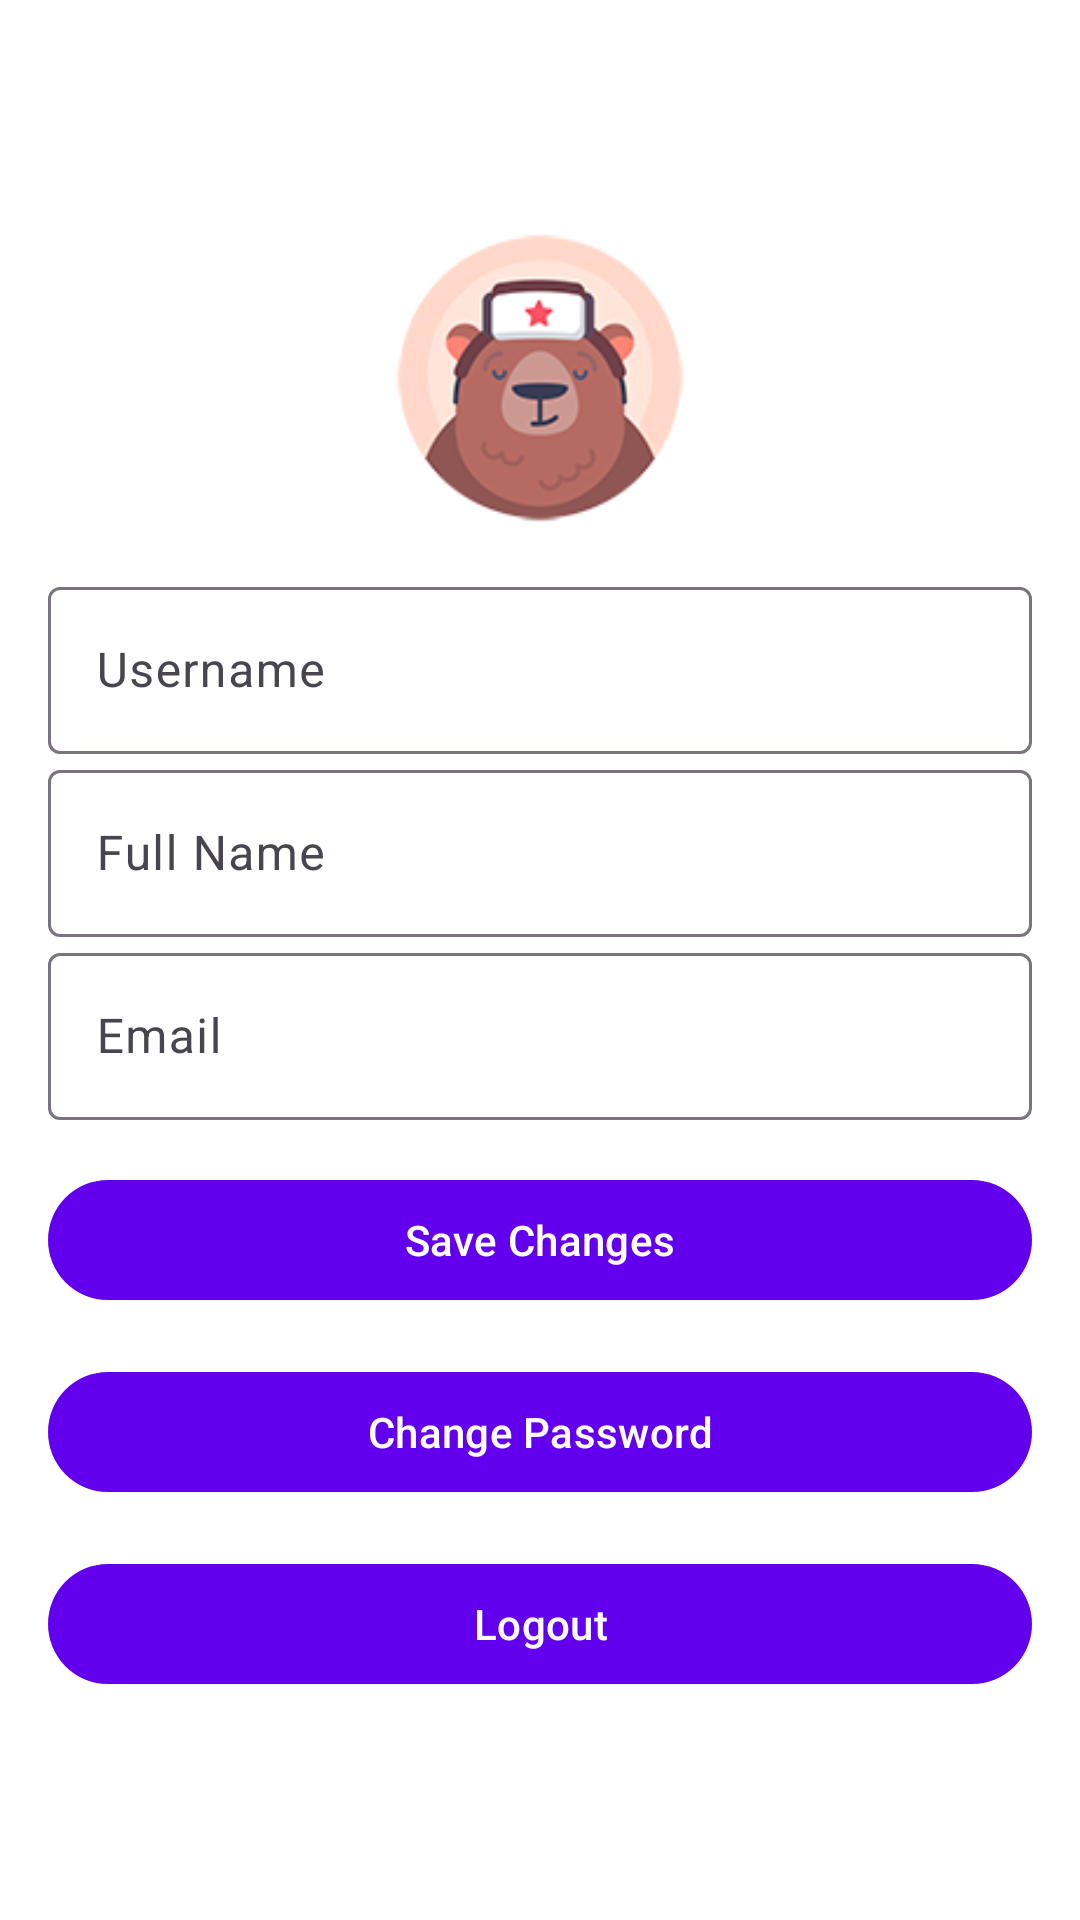

Screen size 1080px x 1920px. Icon name, then its box in pixels as (x1, y1, x2, y2):
User Avatar: (398, 235, 682, 521)
